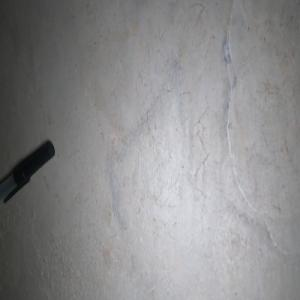Pen: (0, 140, 54, 203)
